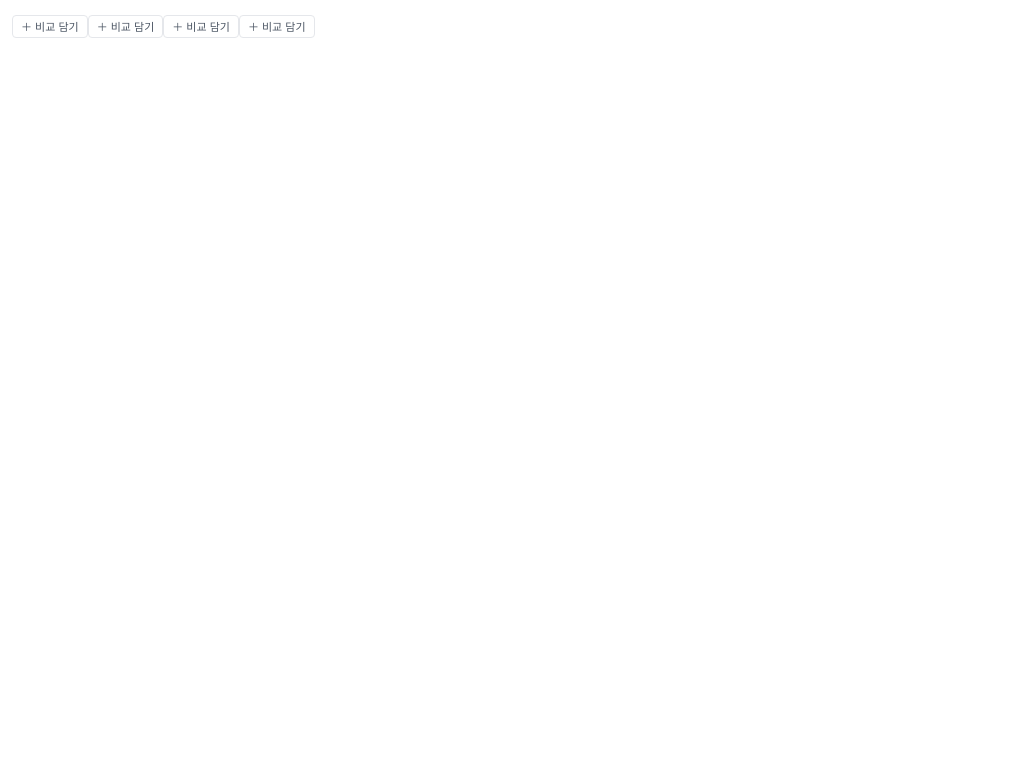
Test: compare tray › does not let the click bubble to the parent row and blocks a 4th property
Click the 1st button "＋ 비교 담기" at (50, 26), box [12,15,88,38]
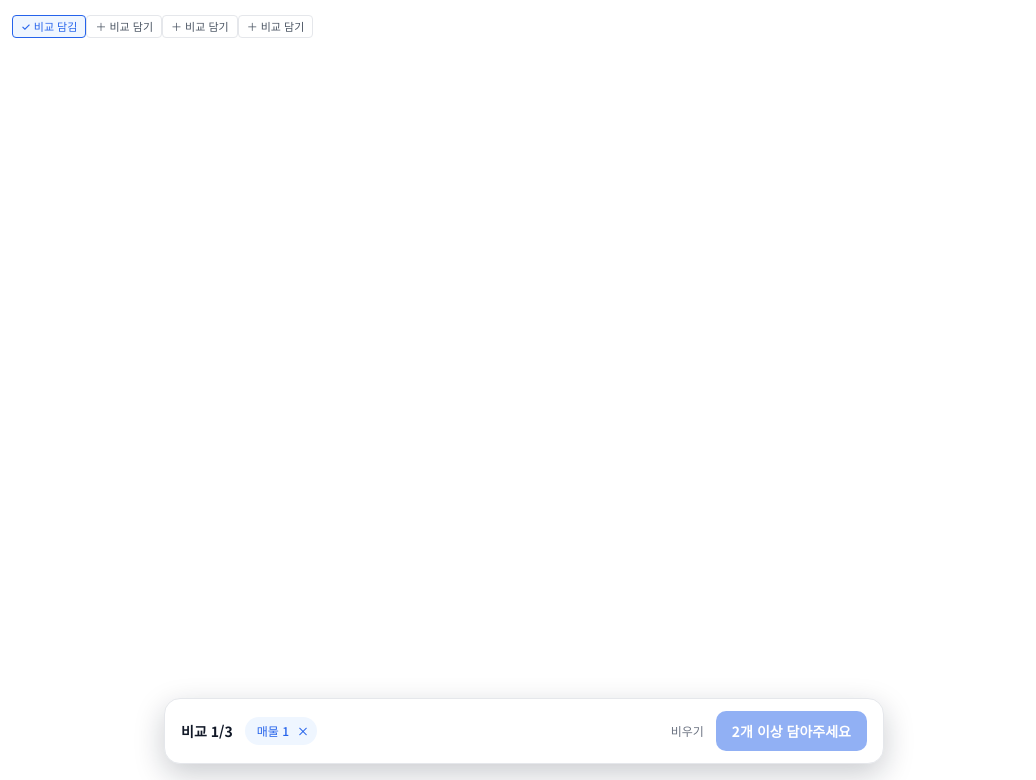
Click the 1st button "＋ 비교 담기" at (124, 26), box [86,15,162,38]
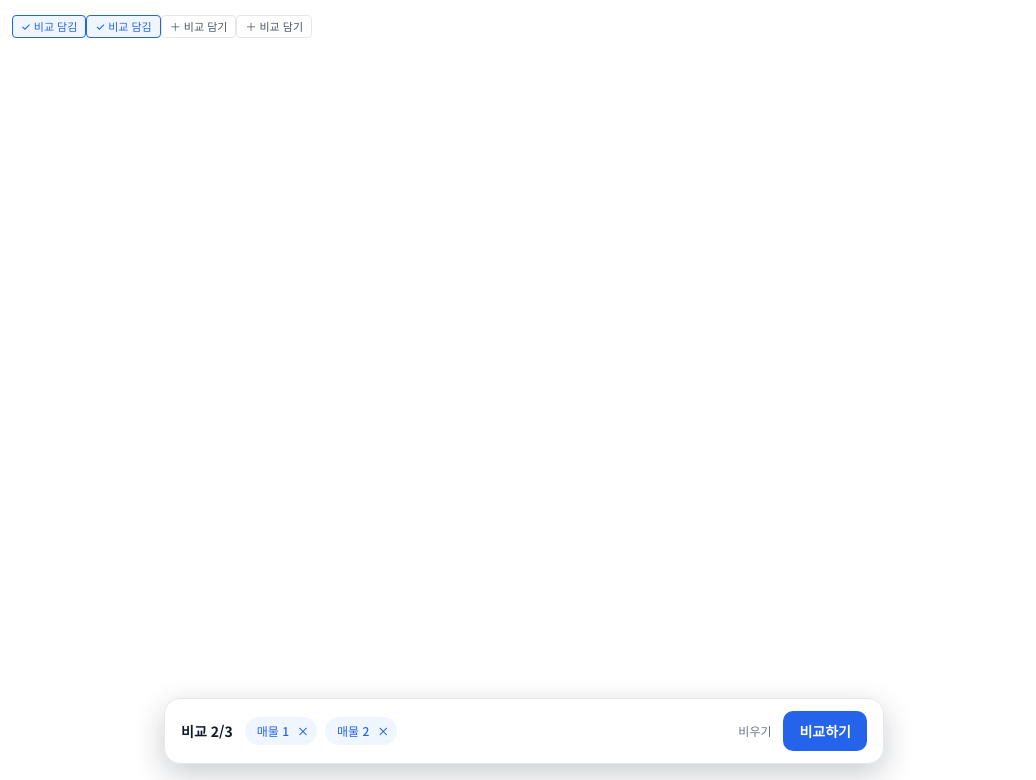
Click the 1st button "＋ 비교 담기" at (199, 26), box [161,15,236,38]
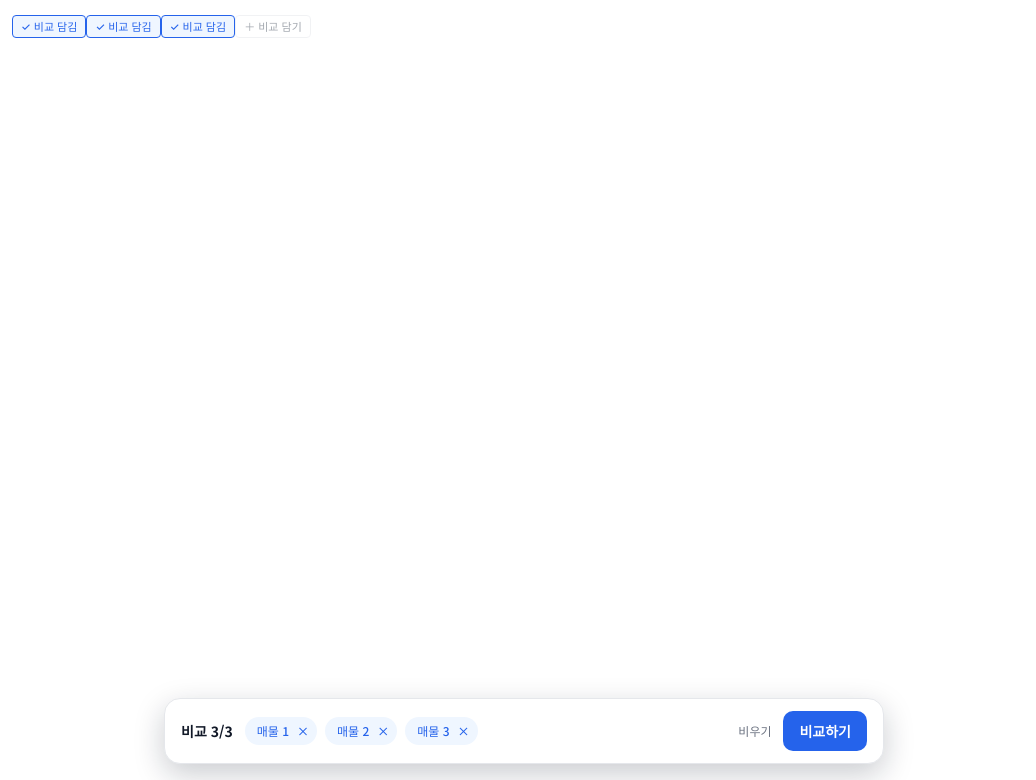
Expected: the button "＋ 비교 담기" is disabled, [235,15,311,38]
